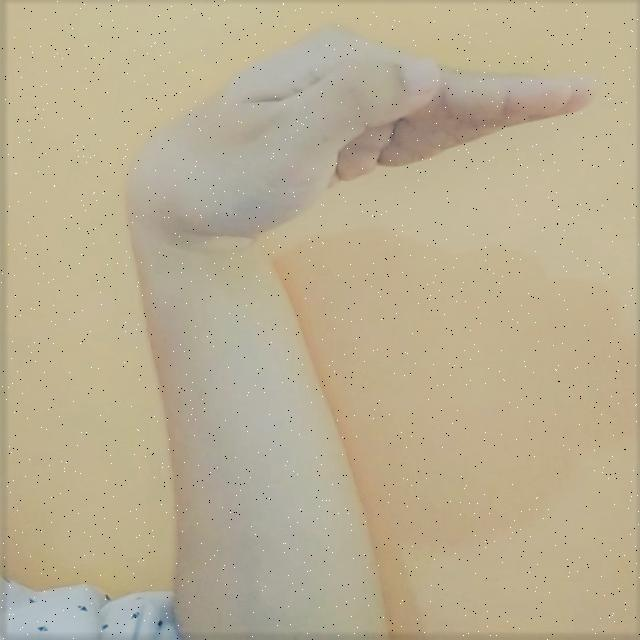Z: (120, 26, 592, 619)
